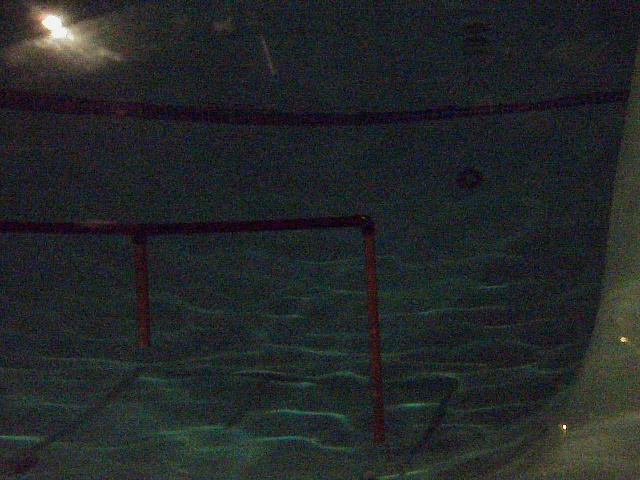Gate: (362, 229, 390, 450), (131, 234, 155, 350)
